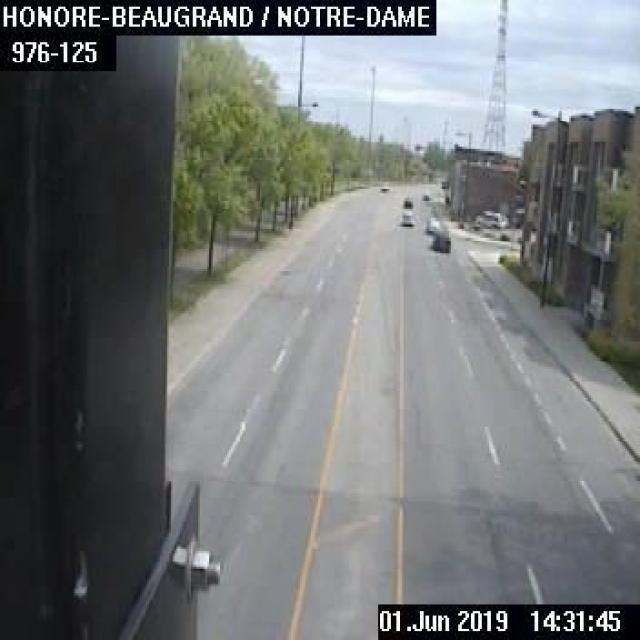vehicle: (474, 209, 505, 229), (430, 231, 451, 251), (424, 215, 438, 231), (399, 209, 413, 225), (402, 195, 412, 208), (420, 192, 430, 200), (378, 184, 389, 191)
